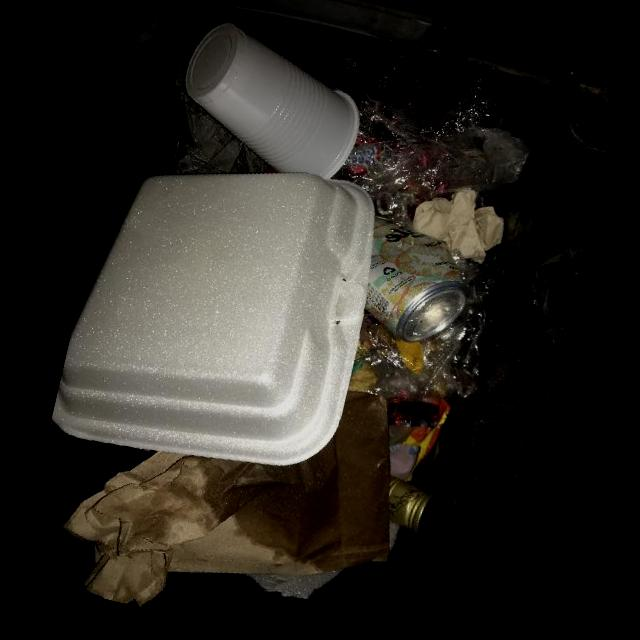giay: (58, 390, 390, 607), (412, 189, 503, 264)
hop_nhua: (184, 22, 360, 180)
nhom: (364, 221, 468, 343)
xop: (50, 173, 374, 467)
